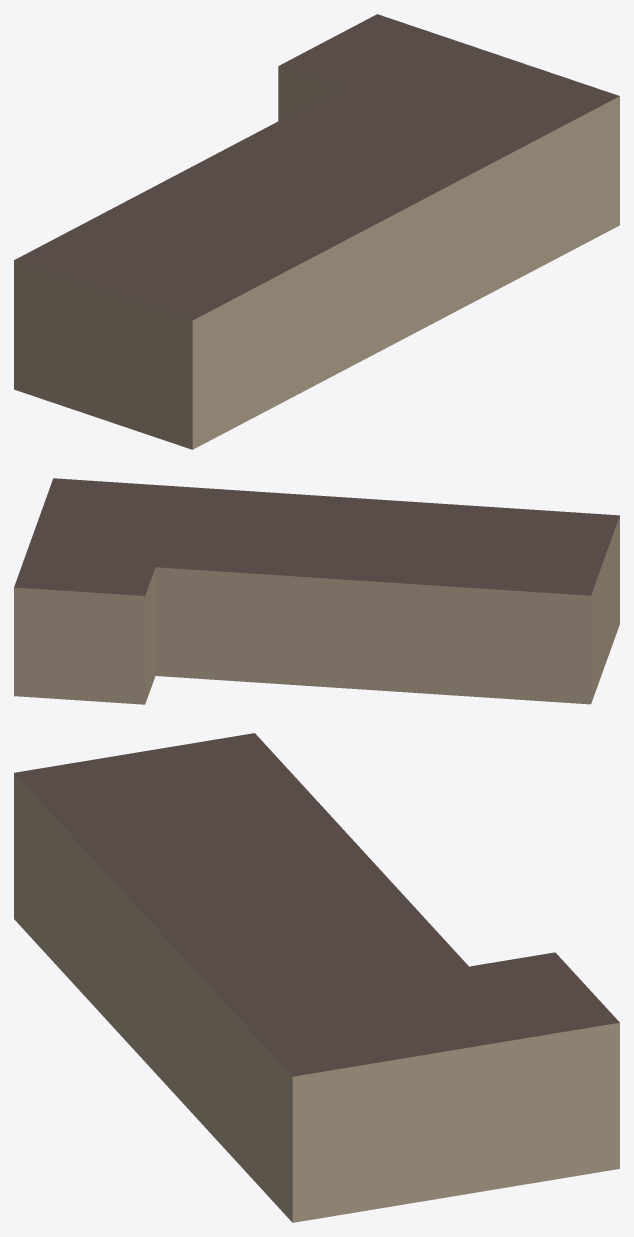
The picture shows the model from 3 angles, top to bottom: view 1: azimuth 30°, elevation 25°; view 2: azimuth 150°, elevation 25°; view 3: azimuth 270°, elevation 25°; orthographic projection. The views are drawn at different scales.
Visible parts, largest first — view 1: HP-w298243648; view 2: HP-w298243648; view 3: HP-w298243648.
Part boxes in pixels (bbox=[...]): HP-w298243648: bbox=[14, 14, 619, 449]; HP-w298243648: bbox=[14, 478, 619, 704]; HP-w298243648: bbox=[14, 733, 619, 1222].
Size of the model in its own units: 45.37 by 9 by 33.81.
